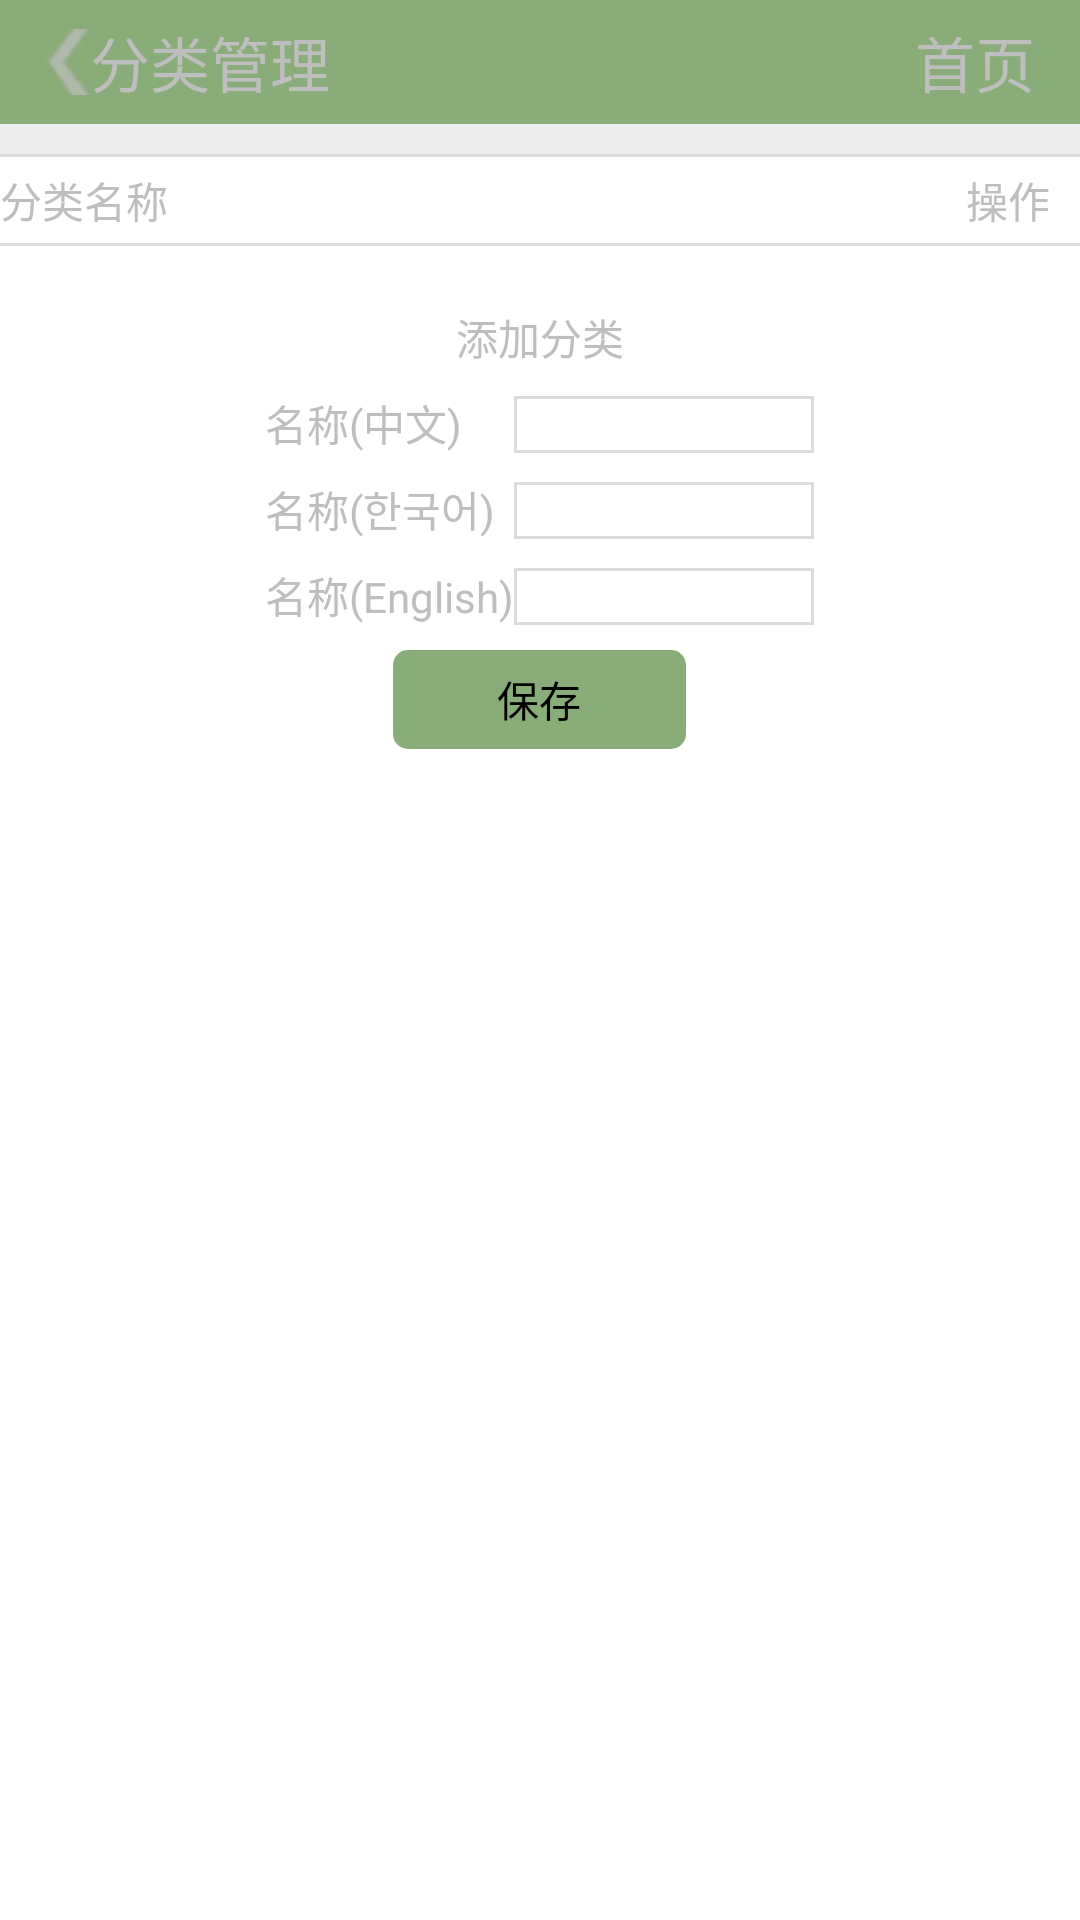

Icons on this 1080px x 1920px Android screen, each with its box as [x1,y1,x2,y2]:
arrow left: [49,29,88,95]
